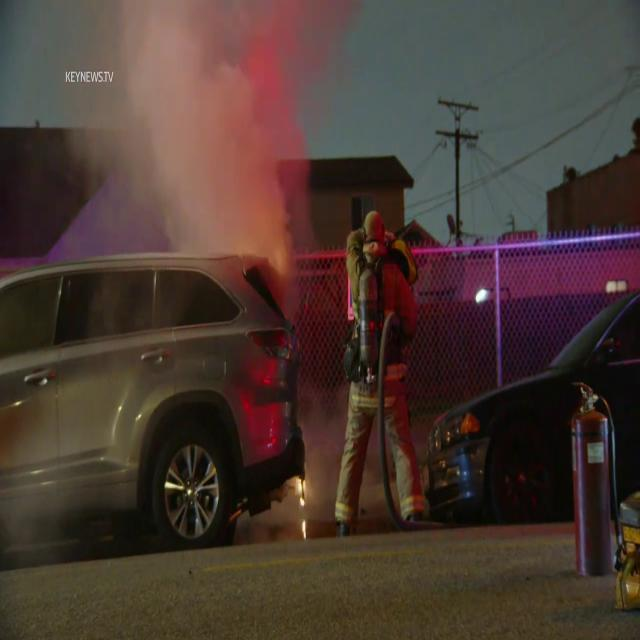Smoke: (28, 0, 336, 278)
